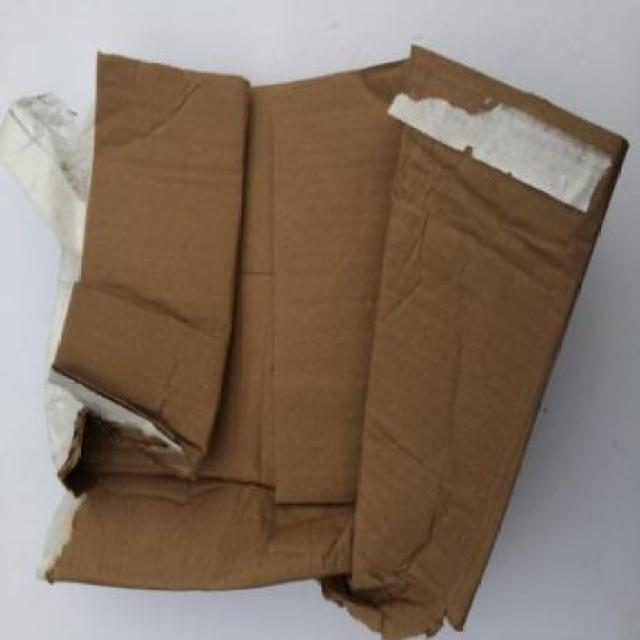box: (1, 27, 638, 640)
